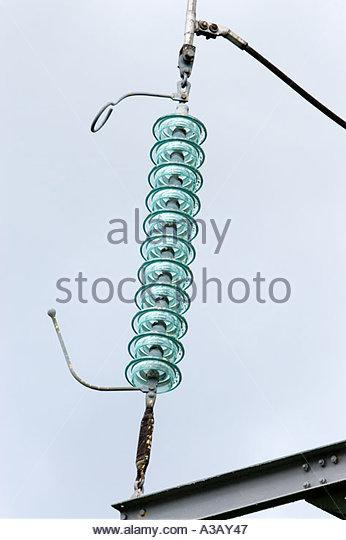isolator: (122, 112, 208, 394)
